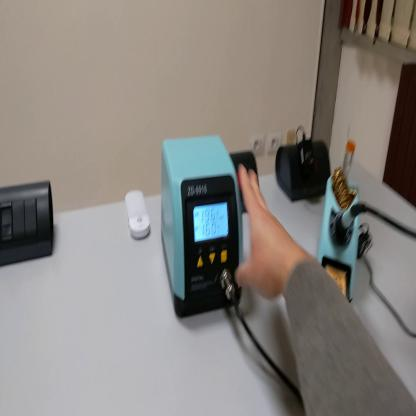hand: (235, 165, 294, 300)
socket: (273, 140, 335, 204), (229, 153, 263, 215)
welder base: (317, 131, 362, 310)
welder probe tip: (339, 201, 366, 240)
welder station: (161, 128, 245, 315)
